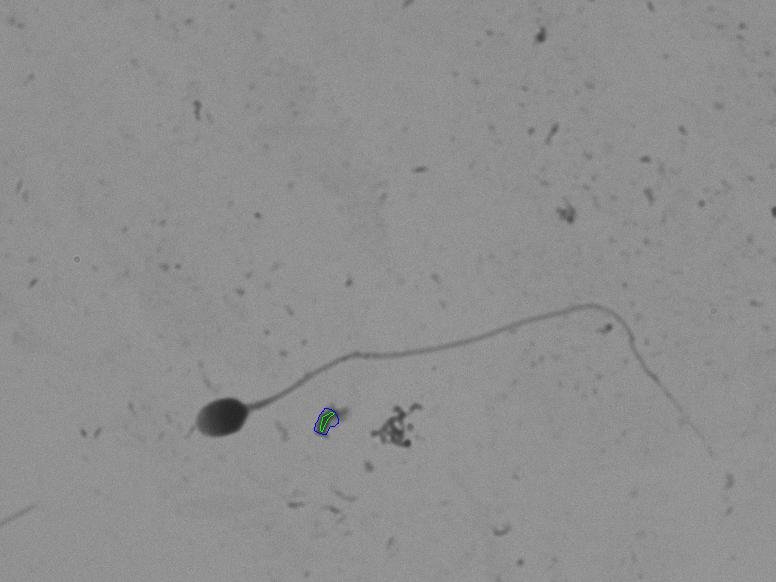Normal: (157, 258, 727, 507)
